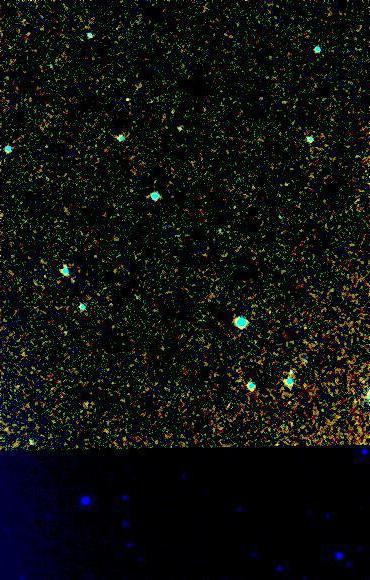star: (114, 84, 144, 114)
